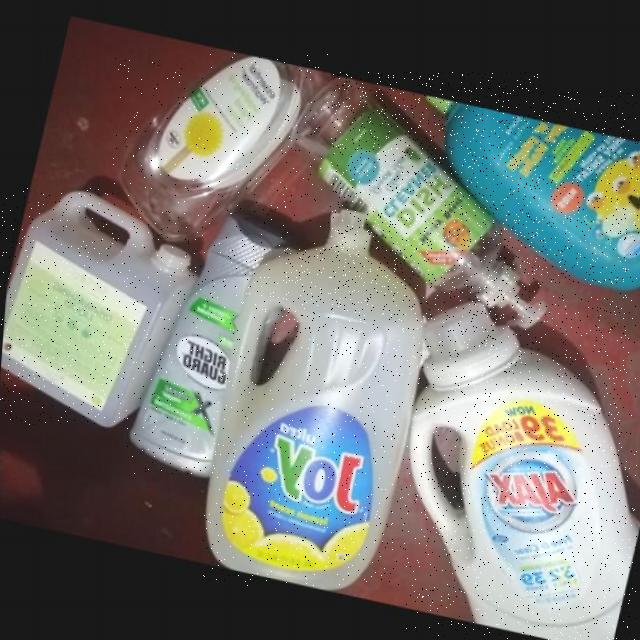plastic: (203, 203, 419, 586), (406, 293, 637, 640), (284, 72, 541, 322), (0, 188, 192, 425), (128, 211, 292, 474), (418, 90, 639, 285), (114, 53, 331, 239)
